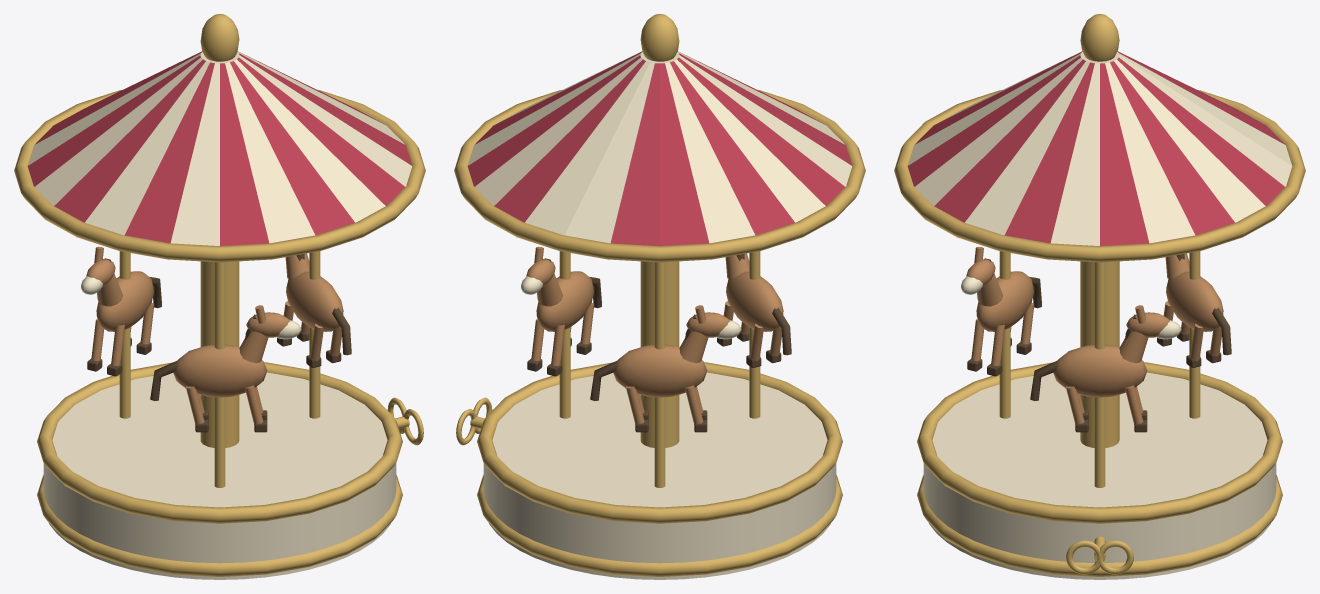
The model's file is music_box_carousel.glb.
3 views of the same model, side by side, from view 1: azimuth 30°, elevation 25°; view 2: azimuth 150°, elevation 25°; view 3: azimuth 270°, elevation 25° (orthographic).
Parts seen in each view (by area): view 1: Striped carousel canopy, Round carousel music-box base, Carousel base upper gold rim, Canopy gold rim, Carousel base lower gold rim, Central carousel pillar, Carousel horse body.002, Carousel horse body, Horse suspension pole.002, Carousel horse body.001, Canopy gold finial, Horse suspension pole.001 (+4 smaller); view 2: Striped carousel canopy, Round carousel music-box base, Carousel base upper gold rim, Canopy gold rim, Carousel base lower gold rim, Central carousel pillar, Carousel horse body.001, Carousel horse body.002, Horse suspension pole.001, Carousel horse body, Canopy gold finial, Horse suspension pole (+4 smaller); view 3: Striped carousel canopy, Round carousel music-box base, Carousel base upper gold rim, Canopy gold rim, Carousel base lower gold rim, Central carousel pillar, Carousel horse body, Carousel horse body.001, Horse suspension pole, Carousel horse body.002, Canopy gold finial, Horse suspension pole.002 (+6 smaller).
Part boxes in pixels (bbox=[...]): Striped carousel canopy: bbox=[27, 51, 412, 245]; Round carousel music-box base: bbox=[43, 372, 396, 579]; Carousel base upper gold rim: bbox=[37, 362, 402, 523]; Canopy gold rim: bbox=[14, 90, 425, 262]; Carousel base lower gold rim: bbox=[37, 475, 402, 576]; Central carousel pillar: bbox=[200, 261, 239, 447]; Carousel horse body.002: bbox=[173, 344, 267, 397]; Carousel horse body: bbox=[286, 271, 343, 331]; Horse suspension pole.002: bbox=[214, 262, 225, 487]; Carousel horse body.001: bbox=[96, 271, 153, 331]; Canopy gold finial: bbox=[200, 14, 239, 61]; Horse suspension pole.001: bbox=[119, 251, 130, 418]; Striped carousel canopy: bbox=[467, 51, 852, 245]; Round carousel music-box base: bbox=[483, 372, 836, 579]; Carousel base upper gold rim: bbox=[477, 362, 842, 523]; Canopy gold rim: bbox=[454, 90, 865, 262]; Carousel base lower gold rim: bbox=[477, 475, 842, 576]; Central carousel pillar: bbox=[640, 261, 679, 447]; Carousel horse body.001: bbox=[613, 344, 707, 397]; Carousel horse body.002: bbox=[726, 271, 783, 331]; Horse suspension pole.001: bbox=[654, 262, 665, 487]; Carousel horse body: bbox=[536, 271, 593, 331]; Canopy gold finial: bbox=[640, 14, 679, 61]; Horse suspension pole: bbox=[559, 251, 570, 418]; Striped carousel canopy: bbox=[907, 51, 1292, 245]; Round carousel music-box base: bbox=[923, 372, 1276, 579]; Carousel base upper gold rim: bbox=[917, 362, 1282, 523]; Canopy gold rim: bbox=[894, 90, 1305, 262]; Carousel base lower gold rim: bbox=[917, 475, 1282, 576]; Central carousel pillar: bbox=[1080, 261, 1119, 447]; Carousel horse body: bbox=[1053, 344, 1147, 397]; Carousel horse body.001: bbox=[1166, 271, 1223, 331]; Horse suspension pole: bbox=[1094, 262, 1105, 487]; Carousel horse body.002: bbox=[976, 271, 1033, 331]; Canopy gold finial: bbox=[1080, 14, 1119, 61]; Horse suspension pole.002: bbox=[999, 251, 1010, 418].
Size of the model in its own units: 0.2587 by 0.331 by 0.252.
